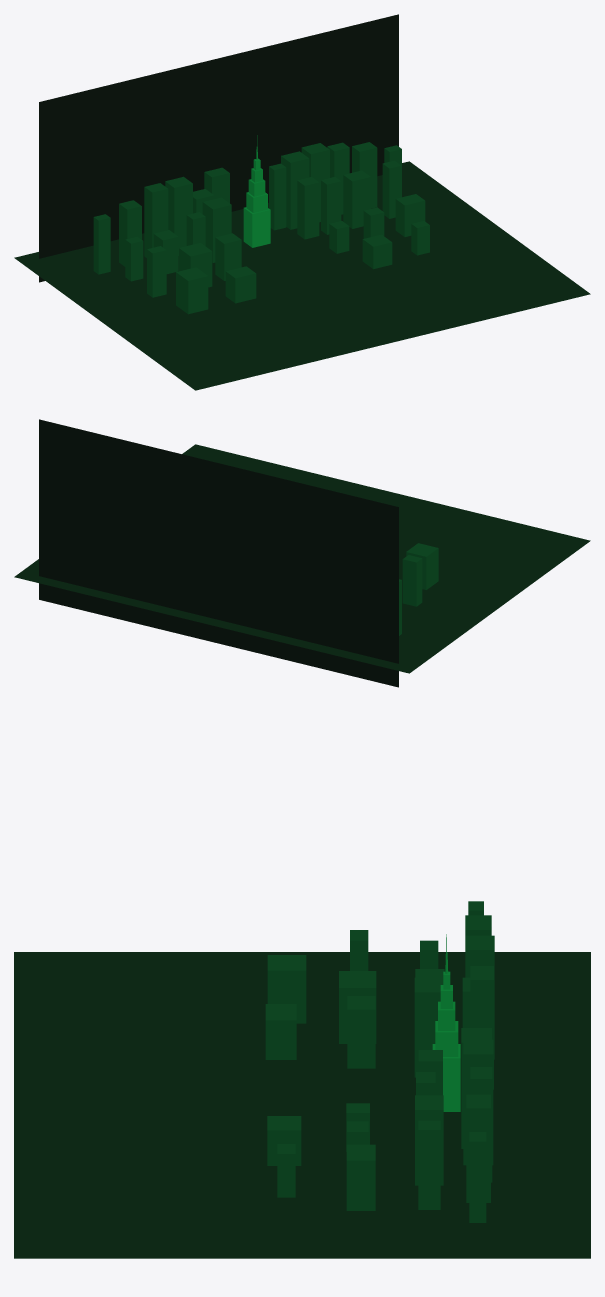
The model's file is matrix-city-blockout.glb.
The picture shows the model from 3 angles, top to bottom: view 1: azimuth 30°, elevation 25°; view 2: azimuth 150°, elevation 25°; view 3: azimuth 270°, elevation 25°; orthographic projection. The views are drawn at different scales.
Visible parts, largest first — view 1: Matrix_Floor_156x124, Matrix_Backdrop_142x68, Building_05_Far_L, Building_18_Middle_R, Building_07_Far_L, Building_29_Foreground_L, Building_14_Middle_R, Building_04_Far_R, Building_13_Middle_L, Building_02_Far_R, Building_11_Far_L, Building_09_Far_L (+19 smaller); view 2: Matrix_Backdrop_142x68, Matrix_Floor_156x124, Building_25_Near_L, Building_29_Foreground_L; view 3: Matrix_Floor_156x124, Building_29_Foreground_L, Building_21_Near_L, Building_20_Middle_R, Building_26_Near_R, Building_13_Middle_L, Building_27_Foreground_L, Building_12_Far_R, Building_10_Far_R, Building_06_Far_R, Building_01_Far_L, Building_23_Near_L (+8 smaller).
Boxes of the visible parts, x1,y1,x2,y2 form: Matrix_Floor_156x124: [14, 161, 590, 390]; Matrix_Backdrop_142x68: [39, 14, 398, 282]; Building_05_Far_L: [165, 176, 192, 255]; Building_18_Middle_R: [343, 170, 370, 228]; Building_07_Far_L: [144, 183, 168, 257]; Building_29_Foreground_L: [176, 267, 208, 314]; Building_14_Middle_R: [297, 177, 319, 239]; Building_04_Far_R: [281, 151, 309, 229]; Building_13_Middle_L: [202, 197, 231, 262]; Building_02_Far_R: [269, 163, 286, 230]; Building_11_Far_L: [93, 214, 110, 274]; Building_09_Far_L: [119, 200, 141, 266]; Matrix_Backdrop_142x68: [39, 419, 398, 687]; Matrix_Floor_156x124: [14, 444, 590, 673]; Building_25_Near_L: [402, 555, 422, 606]; Building_29_Foreground_L: [406, 543, 438, 589]; Matrix_Floor_156x124: [14, 952, 590, 1258]; Building_29_Foreground_L: [267, 955, 306, 1023]; Building_21_Near_L: [347, 996, 375, 1068]; Building_20_Middle_R: [418, 1120, 440, 1209]; Building_26_Near_R: [346, 1144, 375, 1210]; Building_13_Middle_L: [414, 977, 443, 1077]; Building_27_Foreground_L: [265, 1004, 296, 1059]; Building_12_Far_R: [469, 1132, 486, 1222]; Building_10_Far_R: [466, 1094, 490, 1202]; Building_06_Far_R: [463, 1039, 493, 1165]; Building_01_Far_L: [470, 966, 493, 1089]; Building_23_Near_L: [339, 971, 376, 1043].
Size of the model in its own units: 156 by 68 by 124.
